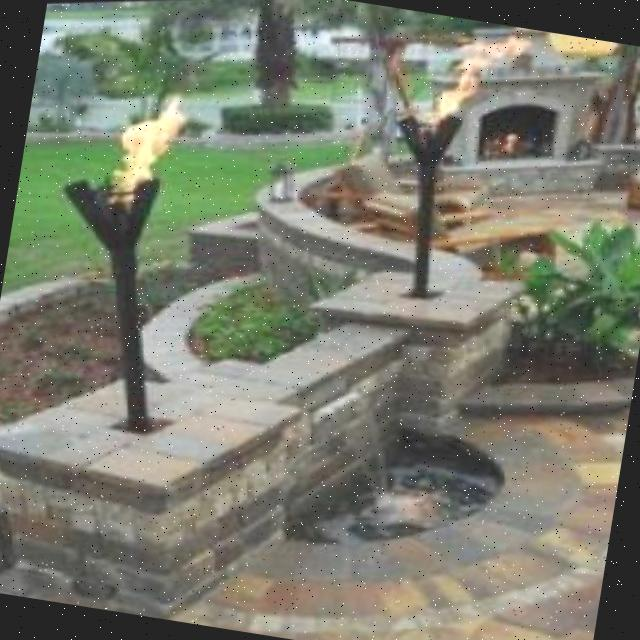fire: (404, 12, 548, 152), (83, 66, 213, 206)
